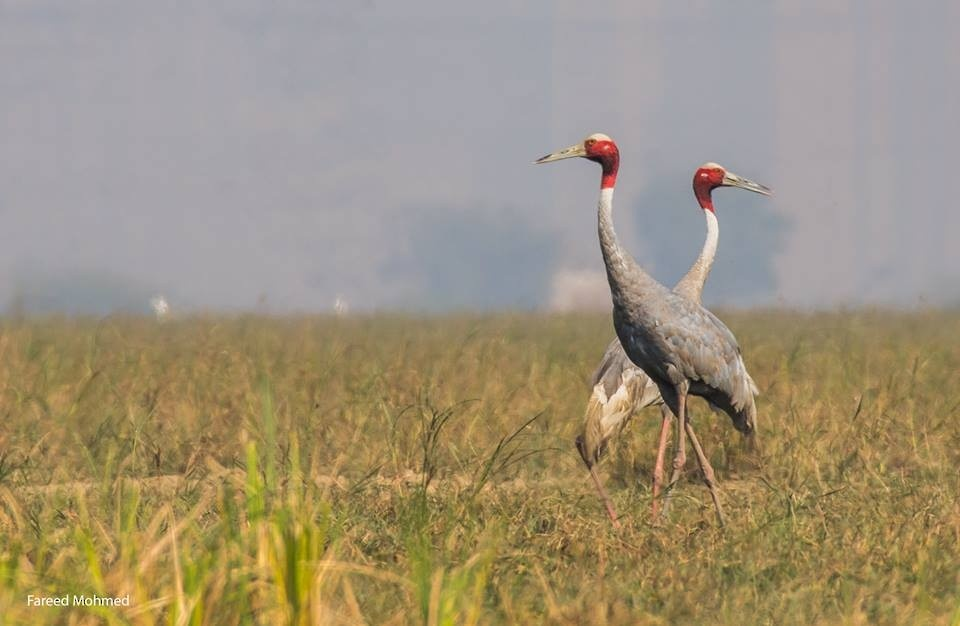crane: (535, 124, 765, 530), (576, 160, 771, 460)
